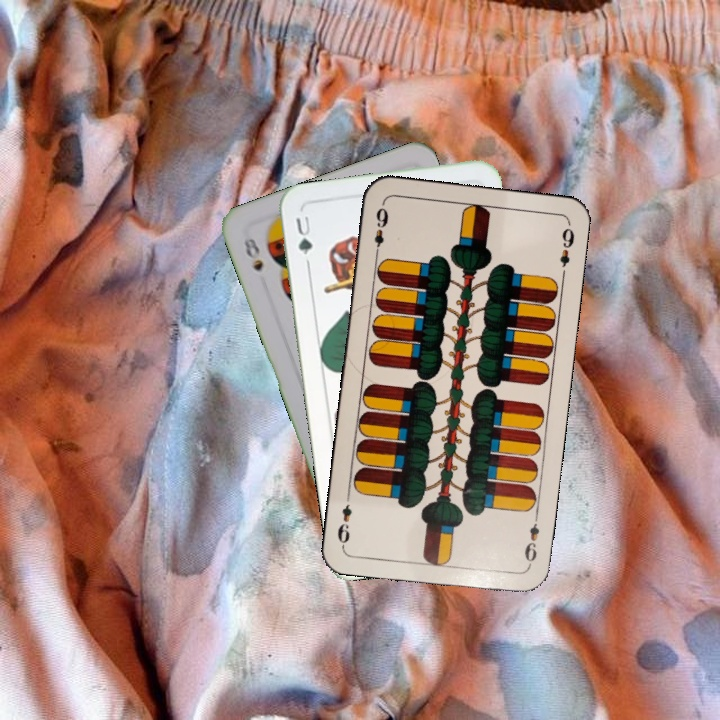E9: (520, 510, 542, 569), (370, 203, 391, 259)
GU: (291, 212, 315, 258)
S8: (239, 234, 266, 274)
